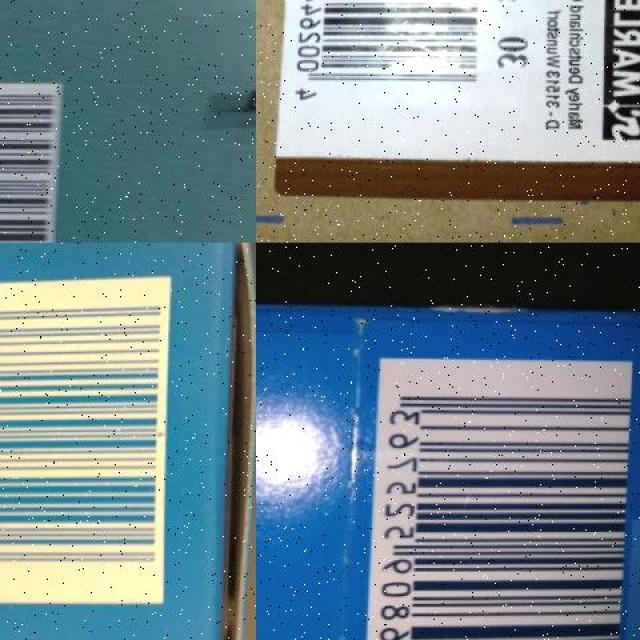Barcode: (371, 362, 633, 640), (0, 277, 173, 605), (288, 0, 500, 115), (0, 82, 61, 242)
